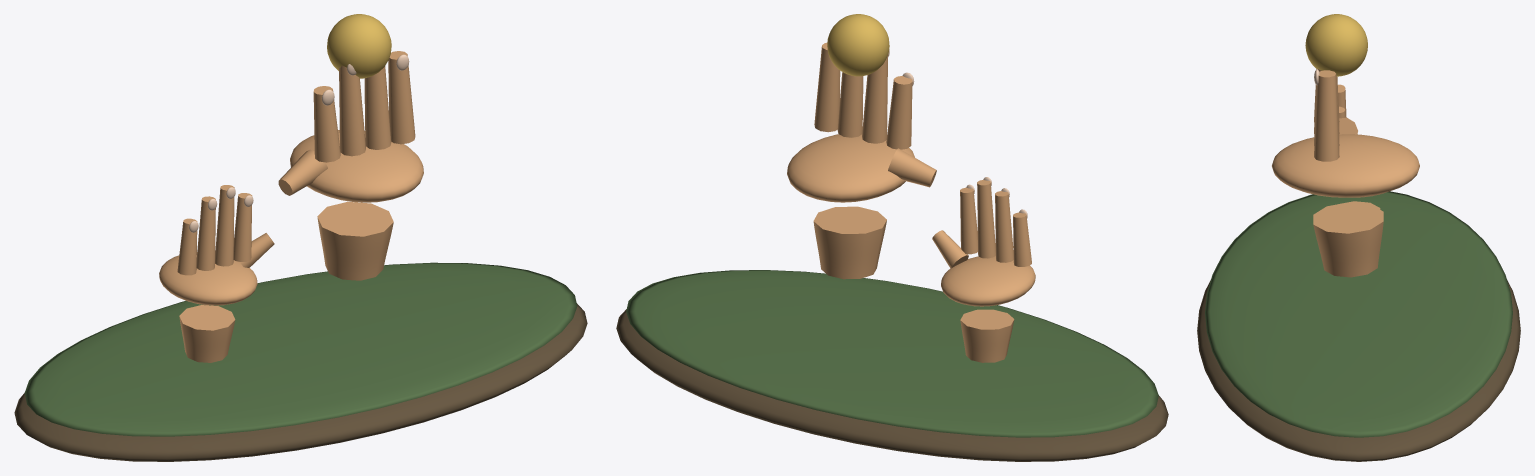
File: palm.glb
3 views of the same model, side by side, from view 1: azimuth 30°, elevation 25°; view 2: azimuth 150°, elevation 25°; view 3: azimuth 270°, elevation 25° (orthographic). The views are drawn at different scales.
Visible parts, largest first — view 1: palm_surface_01, palm_surface_04, palm_surface_00, palm_surface_02, palm_surface_06; view 2: palm_surface_01, palm_surface_04, palm_surface_00, palm_surface_02, palm_surface_06; view 3: palm_surface_01, palm_surface_04, palm_surface_00, palm_surface_06, palm_surface_02.
Boxes of the visible parts, box(x1,y1,x2,y2) form: palm_surface_01: box(24, 262, 577, 436); palm_surface_04: box(278, 51, 423, 280); palm_surface_00: box(14, 303, 587, 461); palm_surface_02: box(159, 185, 274, 362); palm_surface_06: box(327, 14, 391, 78); palm_surface_01: box(626, 270, 1158, 437); palm_surface_04: box(787, 42, 936, 279); palm_surface_00: box(616, 309, 1168, 461); palm_surface_02: box(932, 179, 1035, 362); palm_surface_06: box(827, 14, 889, 76); palm_surface_01: box(1205, 191, 1512, 437); palm_surface_04: box(1272, 69, 1419, 277); palm_surface_00: box(1197, 280, 1520, 461); palm_surface_06: box(1305, 14, 1367, 76); palm_surface_02: box(1337, 84, 1384, 209).
Size of the model in its own units: 4.68 by 3.04 by 2.48.
